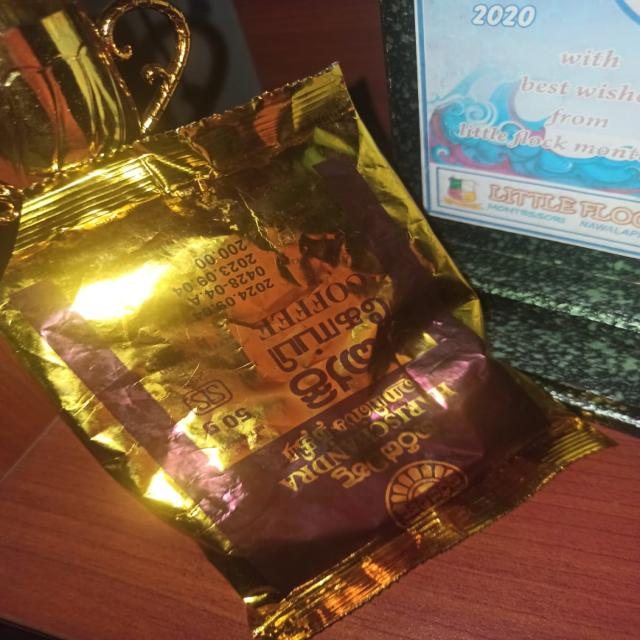Harischandra Coffee: (0, 153, 533, 609)
